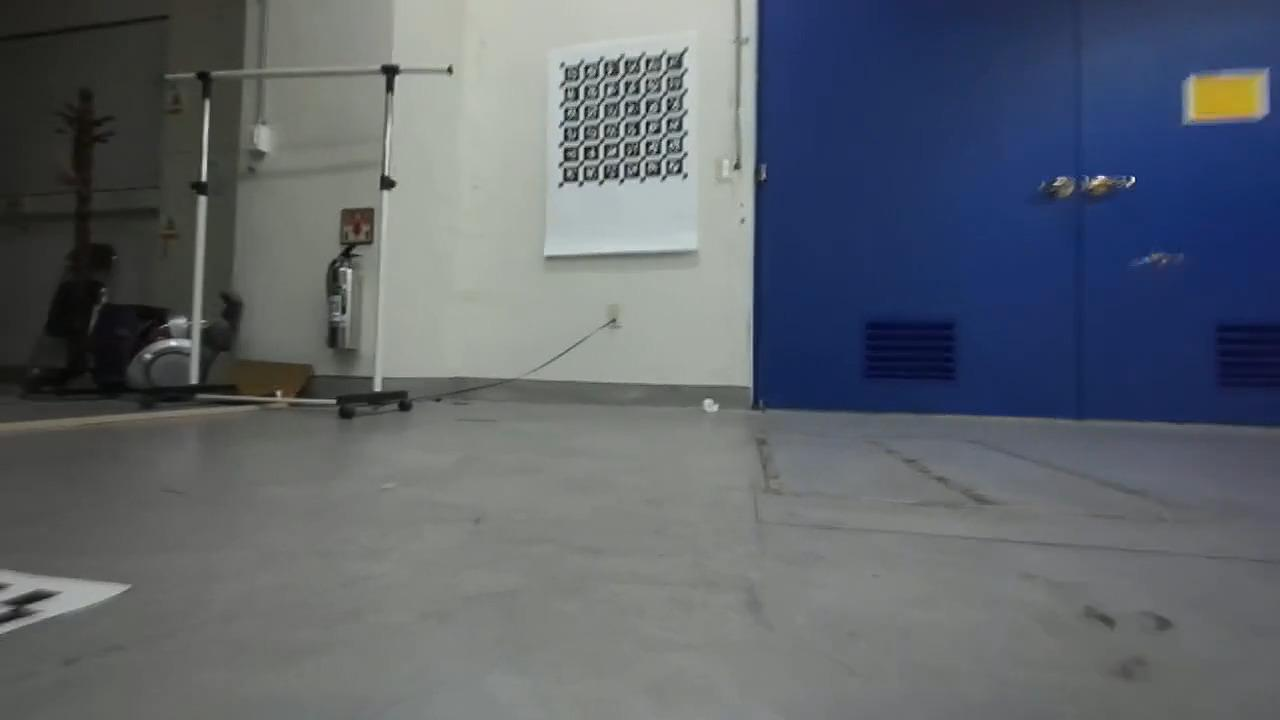crazyflie: (1128, 247, 1187, 273)
